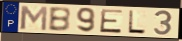3: (153, 9, 174, 38)
9: (75, 7, 97, 34)
B: (47, 6, 72, 33)
E: (98, 8, 124, 35)
L: (127, 9, 147, 35)
M: (19, 4, 49, 32)
